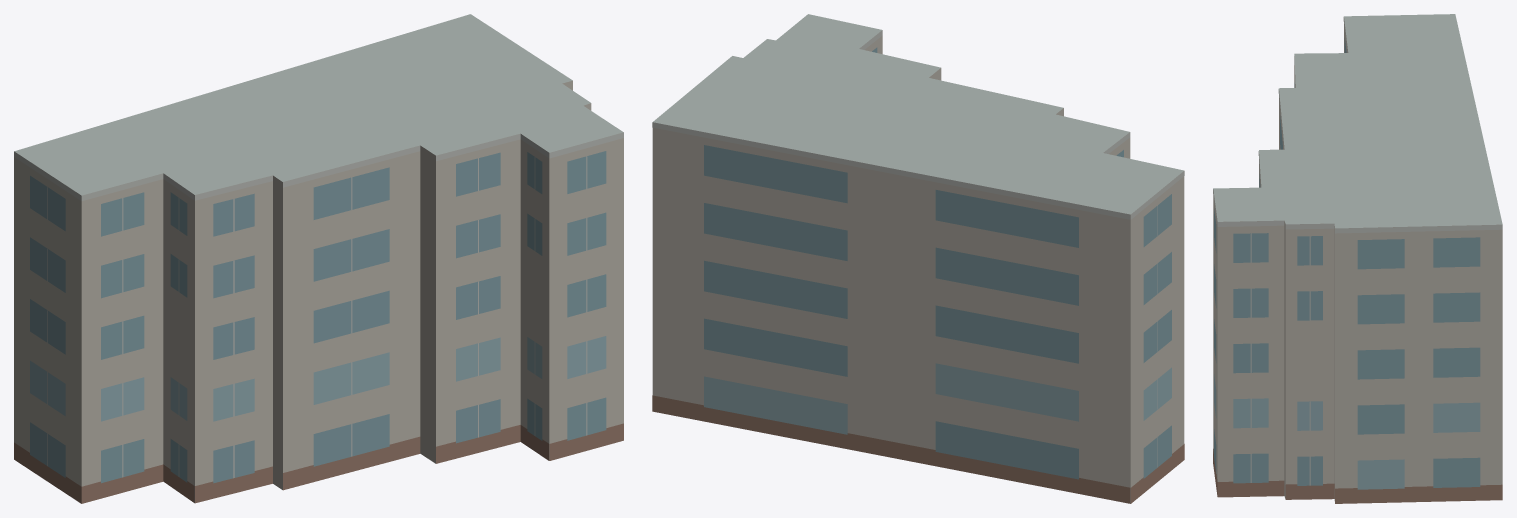
Rendered from survey-upis-32648913.glb.
3 renders of one model, left to right at view 1: azimuth 30°, elevation 25°; view 2: azimuth 150°, elevation 25°; view 3: azimuth 270°, elevation 25°, orthographic. The views are drawn at different scales.
Visible parts, largest first — view 1: survey-upis-32648913.tmp; view 2: survey-upis-32648913.tmp; view 3: survey-upis-32648913.tmp.
Part boxes in pixels (<box>): survey-upis-32648913.tmp: <box>14,14,623,503</box>; survey-upis-32648913.tmp: <box>652,14,1184,503</box>; survey-upis-32648913.tmp: <box>1213,14,1502,503</box>.
Size of the model in its own units: 22.04 by 13.2 by 12.58.
